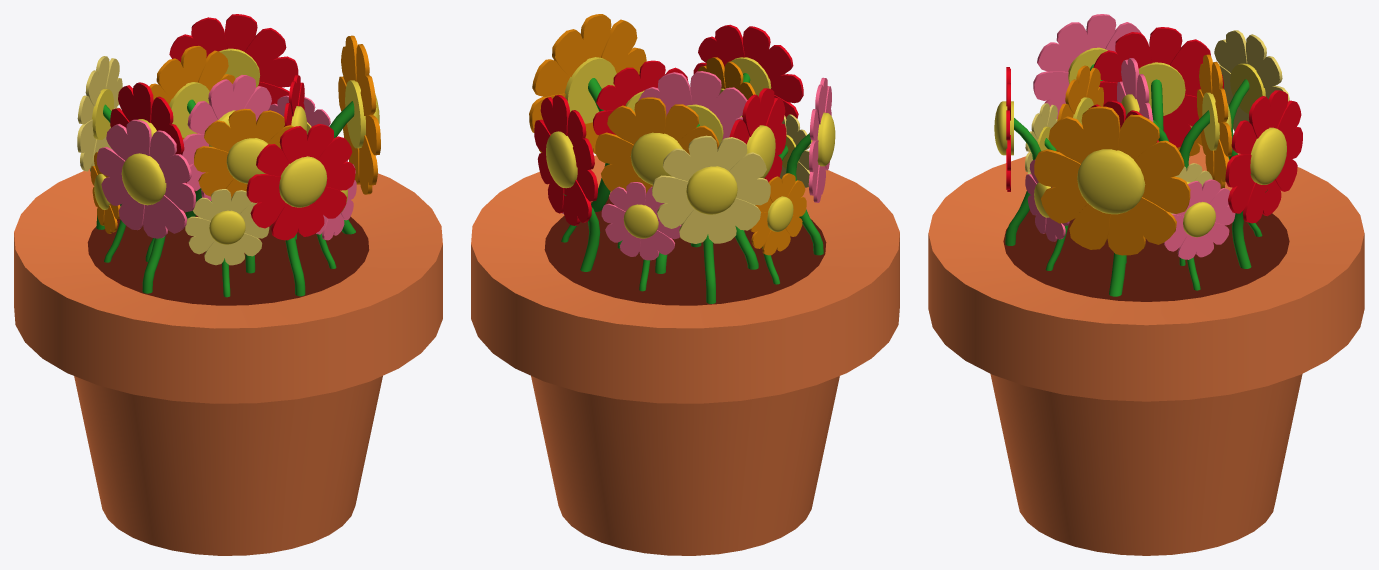
Rendered from AssetMaceta.fbx.
3 renders of one model, left to right at view 1: azimuth 30°, elevation 25°; view 2: azimuth 150°, elevation 25°; view 3: azimuth 270°, elevation 25°, orthographic.
Visible parts, largest first — view 1: Cylinder, Plane.008, Plane.048, Plane.077, Plane.012, Plane.059, Plane.155, Plane.060, Plane.030, Plane.068, Sphere, Sphere.002 (+24 smaller); view 2: Cylinder, Plane.030, Plane.059, Plane.060, Plane.048, Plane.155, Plane.008, Plane.120, Plane.130, Plane.140, Plane.068, Sphere.003 (+16 smaller); view 3: Cylinder, Plane.059, Plane.048, Plane.068, Sphere.005, Plane.030, Plane.110, Plane.060, Sphere.004, Sphere.006, Plane.077, Plane.155 (+15 smaller).
Part boxes in pixels (x1,y1,x2,y2): Cylinder: (14,169,442,555); Plane.008: (246,126,355,240); Plane.048: (169,14,298,104); Plane.077: (194,108,293,198); Plane.012: (185,189,269,265); Plane.059: (338,35,380,194); Plane.155: (182,75,271,201); Plane.060: (149,45,235,139); Plane.030: (77,56,122,171); Plane.068: (110,82,186,183); Sphere: (279,156,327,207); Sphere.002: (121,153,166,205); Cylinder: (471,155,899,555); Plane.030: (652,135,770,243); Plane.059: (529,14,646,153); Plane.060: (595,97,719,193); Plane.048: (534,94,597,225); Plane.155: (638,71,747,139); Plane.008: (693,26,803,118); Plane.120: (601,182,681,260); Plane.130: (750,173,806,255); Plane.140: (593,60,688,135); Plane.068: (729,88,786,182); Sphere.003: (686,166,737,214); Cylinder: (928,144,1364,555); Plane.059: (1034,106,1190,255); Plane.048: (1225,90,1302,223); Plane.068: (1093,27,1223,147); Sphere.005: (1077,149,1145,214); Plane.030: (1214,30,1289,131); Plane.110: (1164,179,1235,259); Plane.060: (1197,54,1232,188); Sphere.004: (1250,127,1286,184); Sphere.006: (1138,62,1185,115); Plane.077: (1056,65,1103,151); Plane.155: (1117,58,1153,121).
Bounding box in the file's own units: 227 × 259 × 227.
